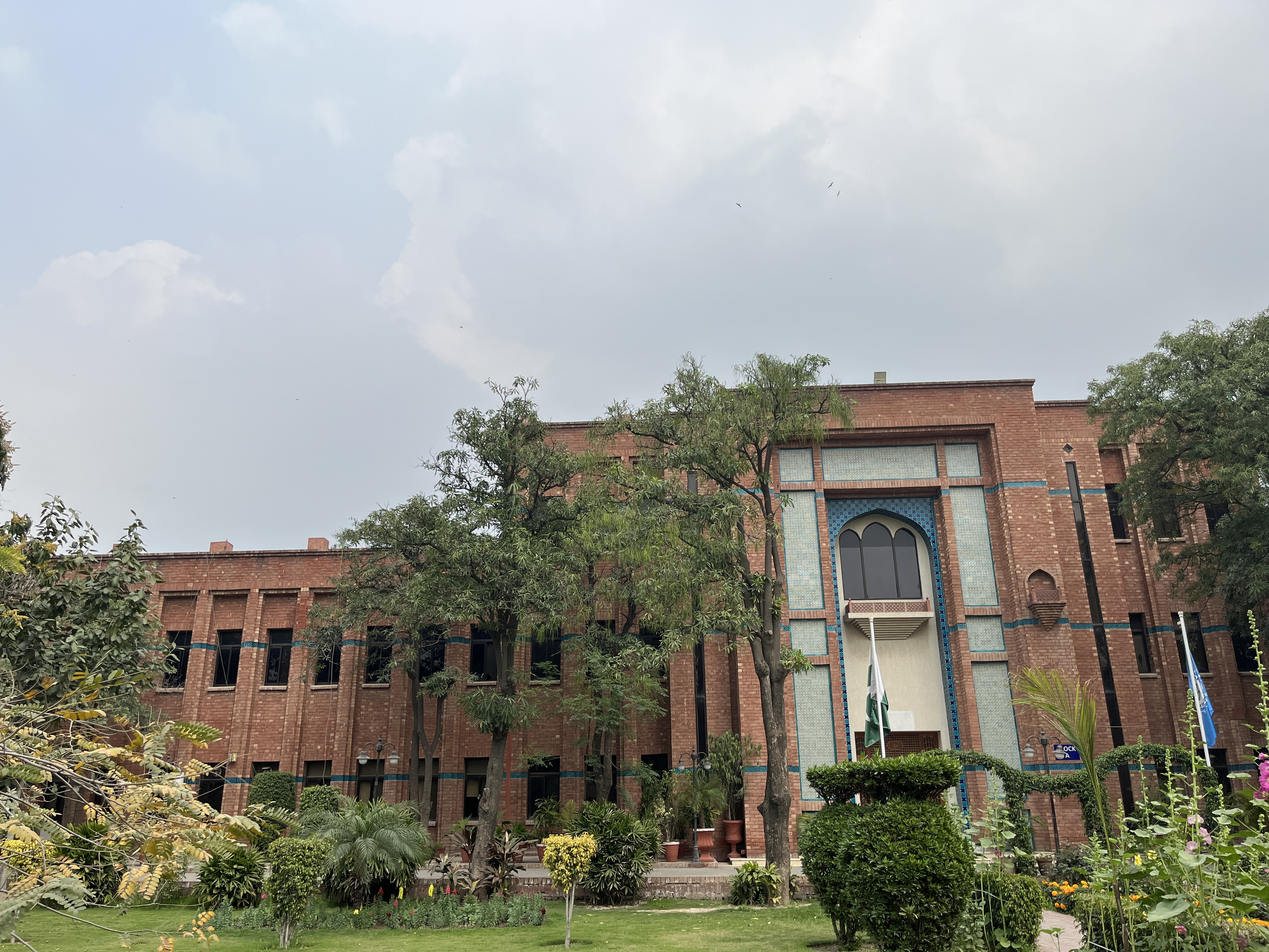Block A: (2, 369, 1269, 855)
